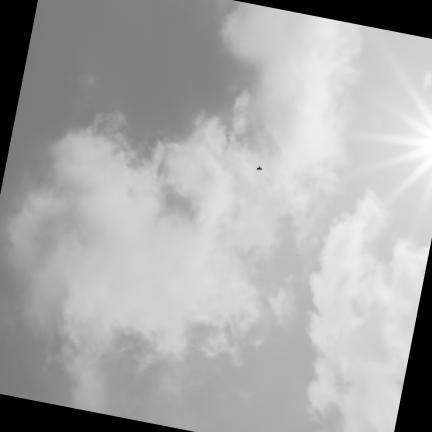Shahed: (255, 165, 263, 170)
